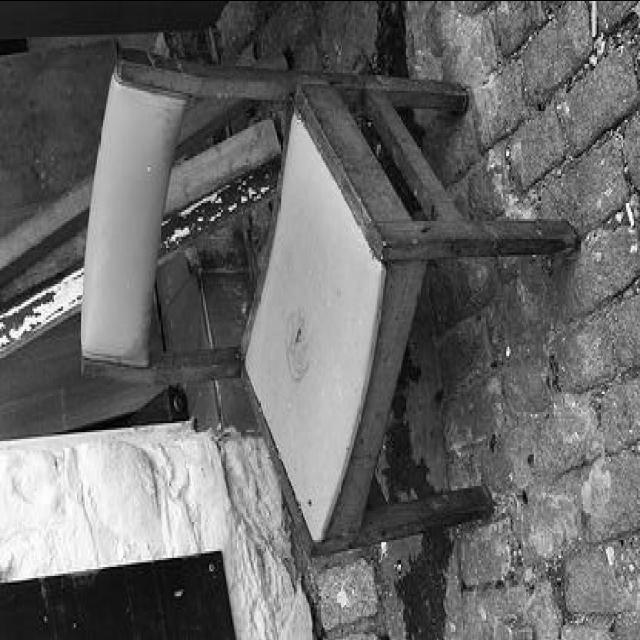chair: (75, 49, 579, 557)
